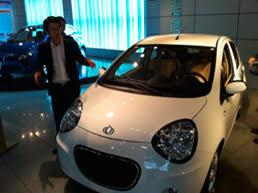windshield: (97, 44, 216, 101)
